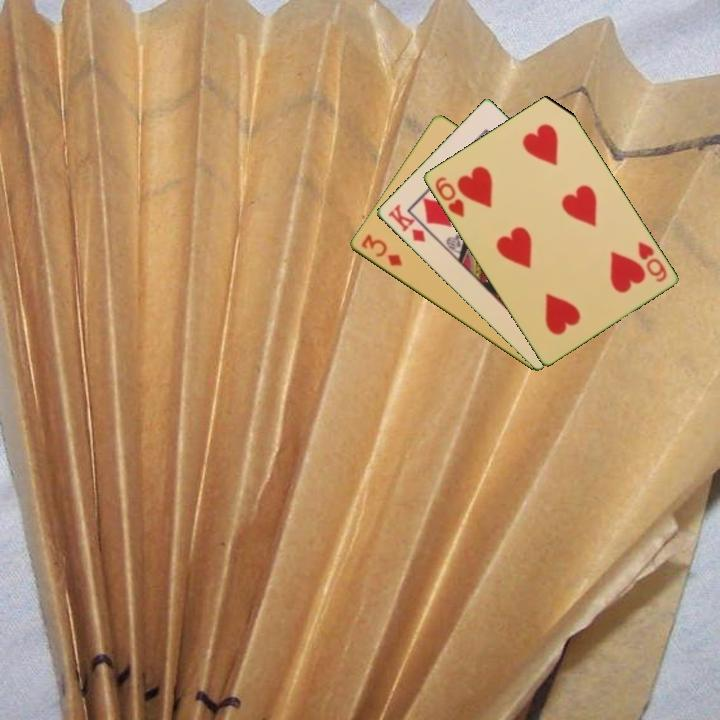3d: (357, 230, 405, 269)
6h: (431, 173, 467, 220), (634, 238, 669, 285)
Kd: (384, 201, 428, 245)
